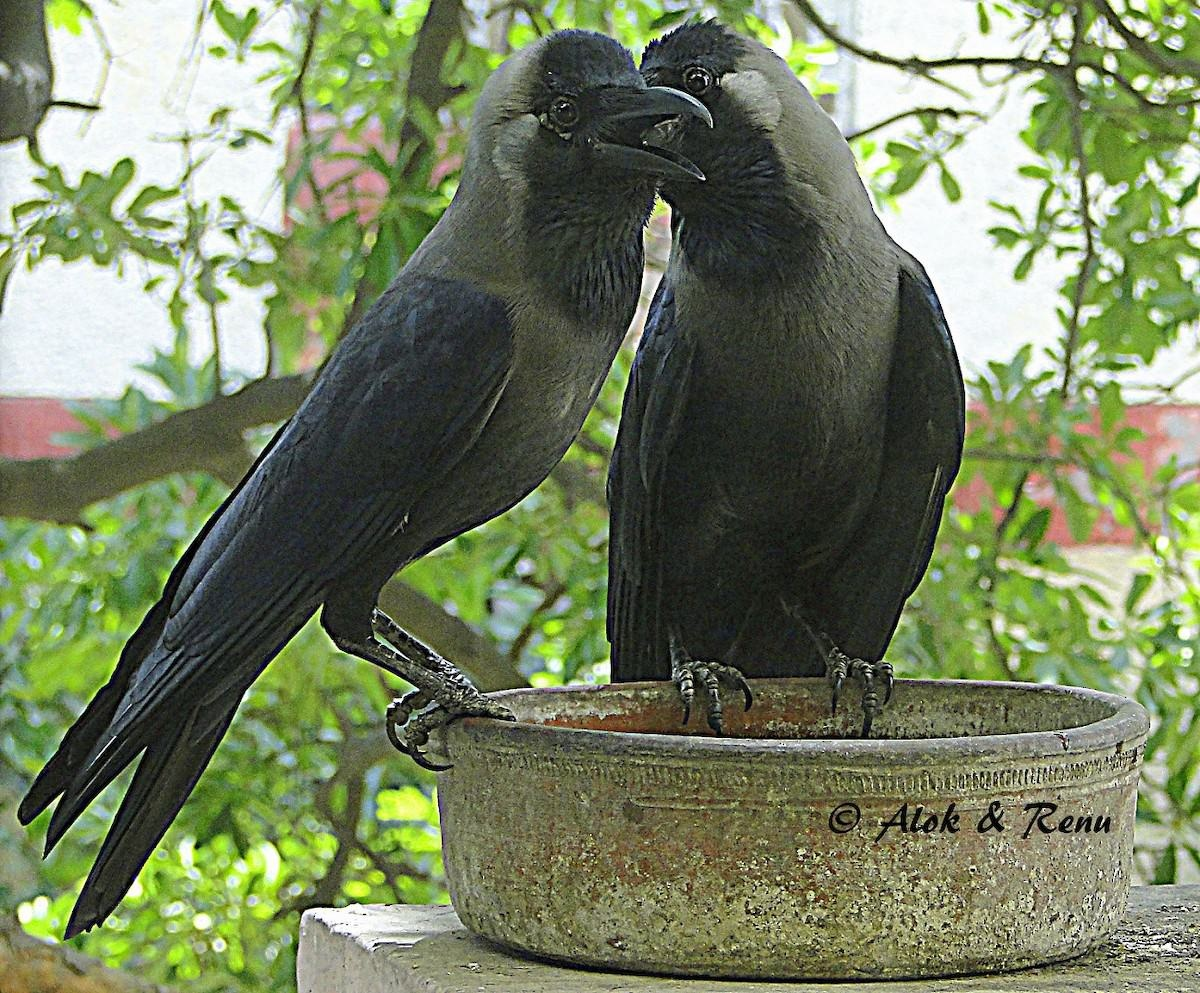crow: (1, 34, 717, 927), (633, 17, 965, 728)
